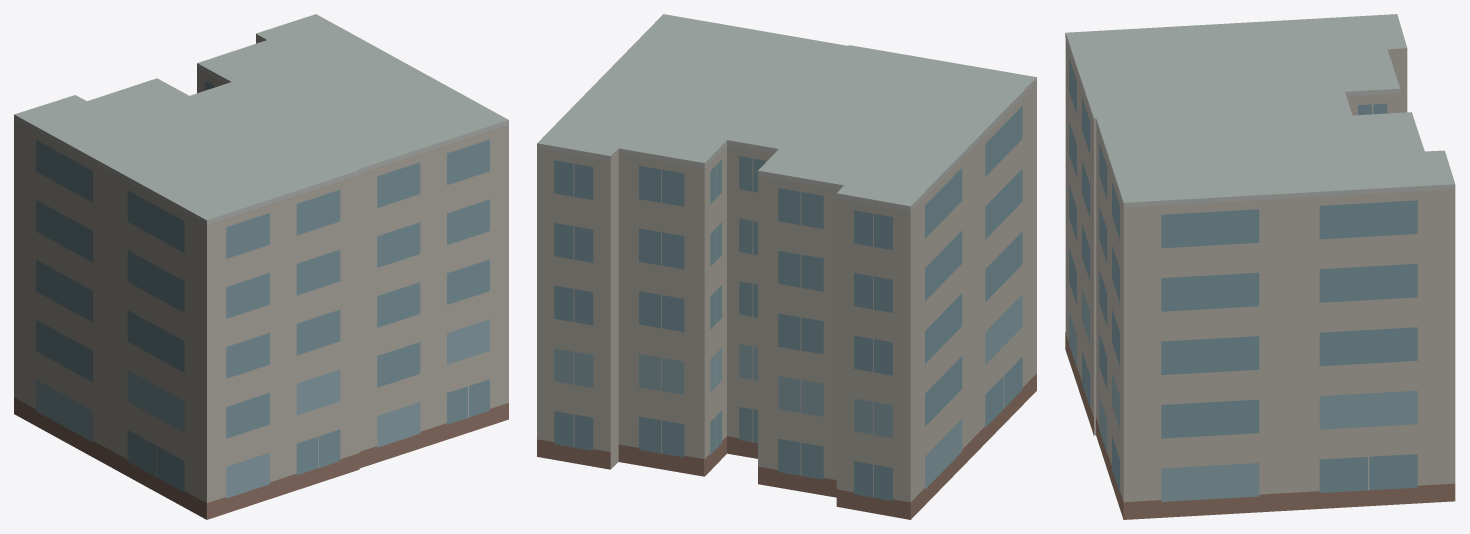
Rendered from survey-upis-32531200.glb.
3 renders of one model, left to right at view 1: azimuth 30°, elevation 25°; view 2: azimuth 150°, elevation 25°; view 3: azimuth 270°, elevation 25°, orthographic. The views are drawn at different scales.
Parts seen in each view (by area): view 1: survey-upis-32531200.tmp; view 2: survey-upis-32531200.tmp; view 3: survey-upis-32531200.tmp.
Part boxes in pixels (box(x1,y1,x2,y2)): survey-upis-32531200.tmp: box(14, 14, 508, 519); survey-upis-32531200.tmp: box(537, 14, 1036, 519); survey-upis-32531200.tmp: box(1065, 14, 1455, 519).
Bounding box in the file's own units: 20.12 × 15.75 × 17.56.
